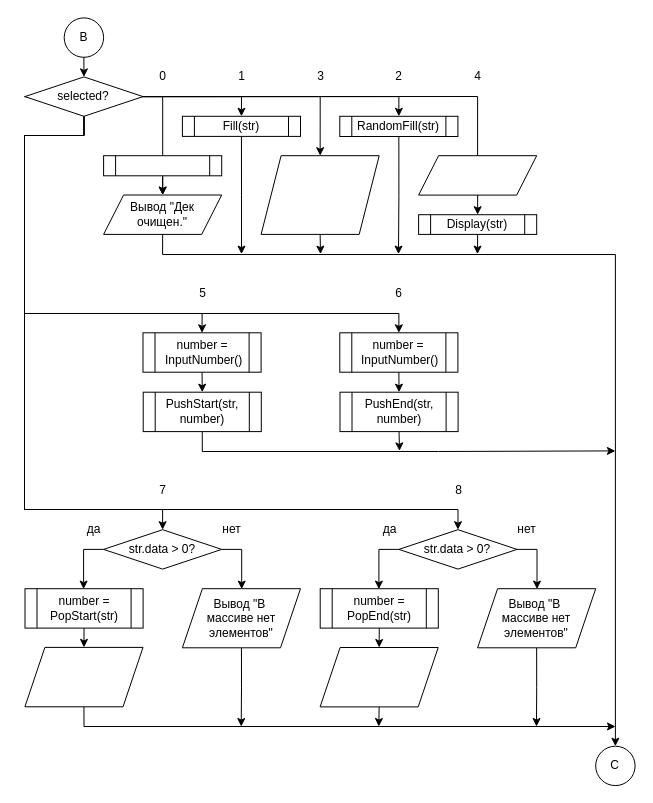
Some shapes in this 653 by 803 pixel diagram are drawn without their labels. The shapes that lost their labels are listed below. From the top down, each one's centre as x and y in pixels, then its label:
point 162,165: Clear(str)
point 477,175: Вывод "Массив: "
point 319,194: Вывод "Размер: ", str.data, " эл."
point 83,676: Вывод "Число с начала: ", number
point 378,676: Вывод "Число с конца: ", number
